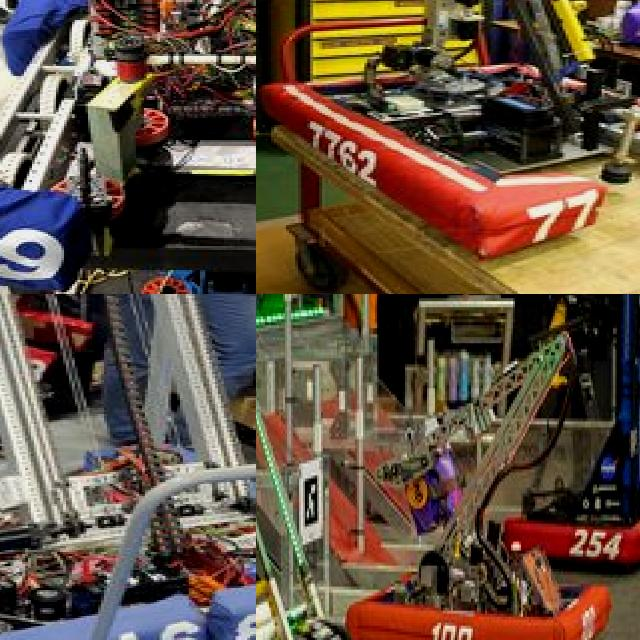FRC-Robots: (256, 0, 640, 264), (0, 294, 256, 640), (348, 332, 618, 640), (0, 0, 256, 294), (256, 294, 389, 640), (524, 294, 640, 595)
